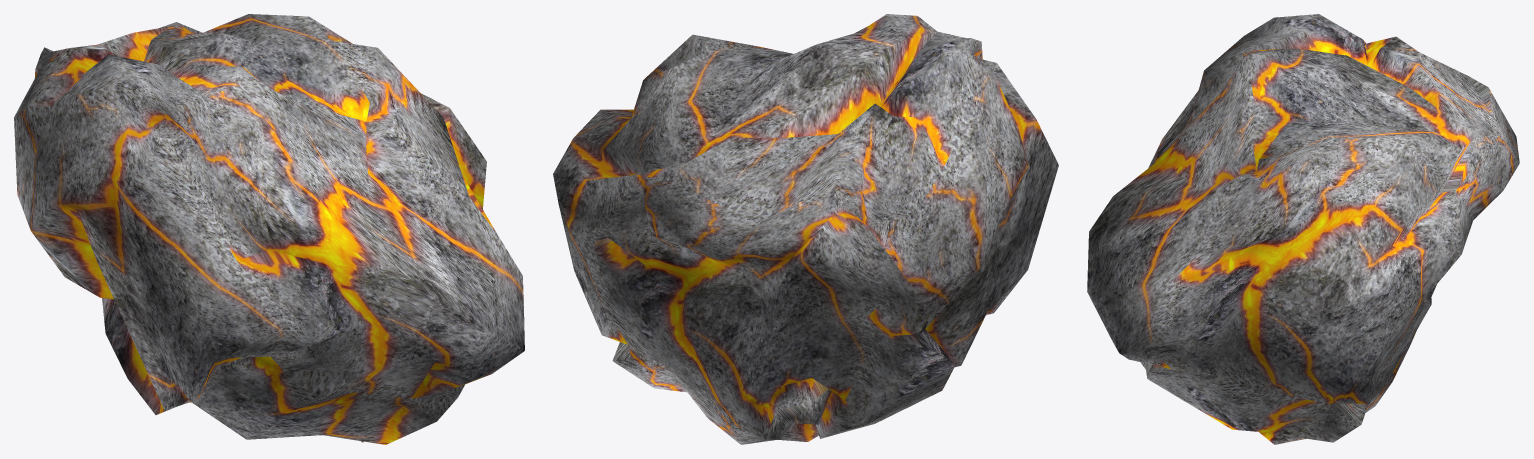
The model's file is Asteroid_09_L2.FBX.
3 views of the same model, side by side, from view 1: azimuth 30°, elevation 25°; view 2: azimuth 150°, elevation 25°; view 3: azimuth 270°, elevation 25° (orthographic). The views are drawn at different scales.
Parts seen in each view (by area): view 1: Asteroid; view 2: Asteroid; view 3: Asteroid.
Boxes of the visible parts, <box> form: Asteroid: <box>14,14,524,444</box>; Asteroid: <box>553,14,1058,444</box>; Asteroid: <box>1087,14,1519,444</box>.
Size of the model in its own units: 2.8 by 2.62 by 3.
